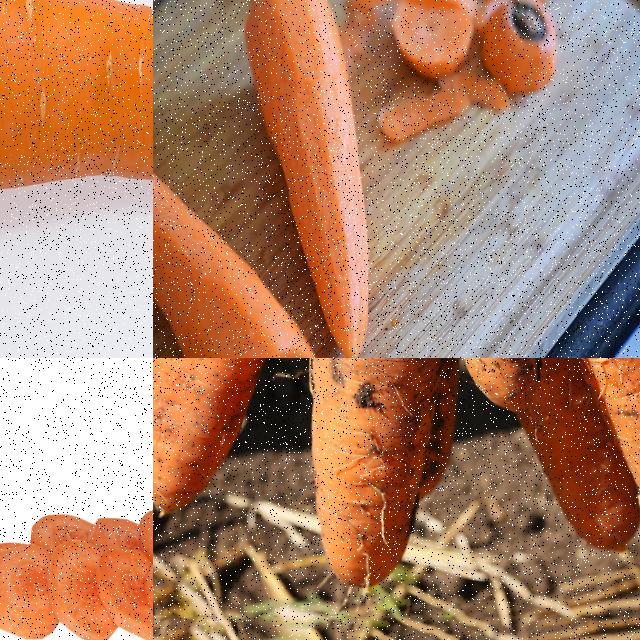carrot: (242, 0, 374, 357), (0, 0, 152, 241), (153, 138, 318, 357), (153, 358, 365, 518), (309, 358, 446, 586), (519, 358, 637, 555), (0, 499, 152, 639), (519, 358, 639, 532)
